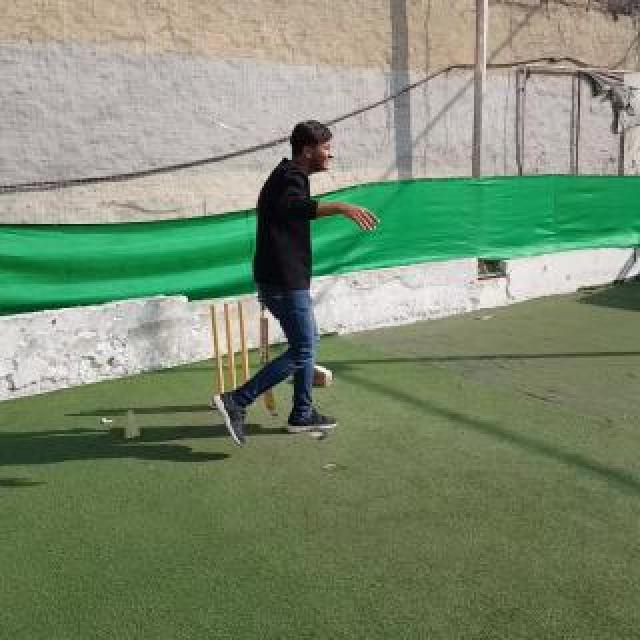bat: (260, 292, 278, 418)
